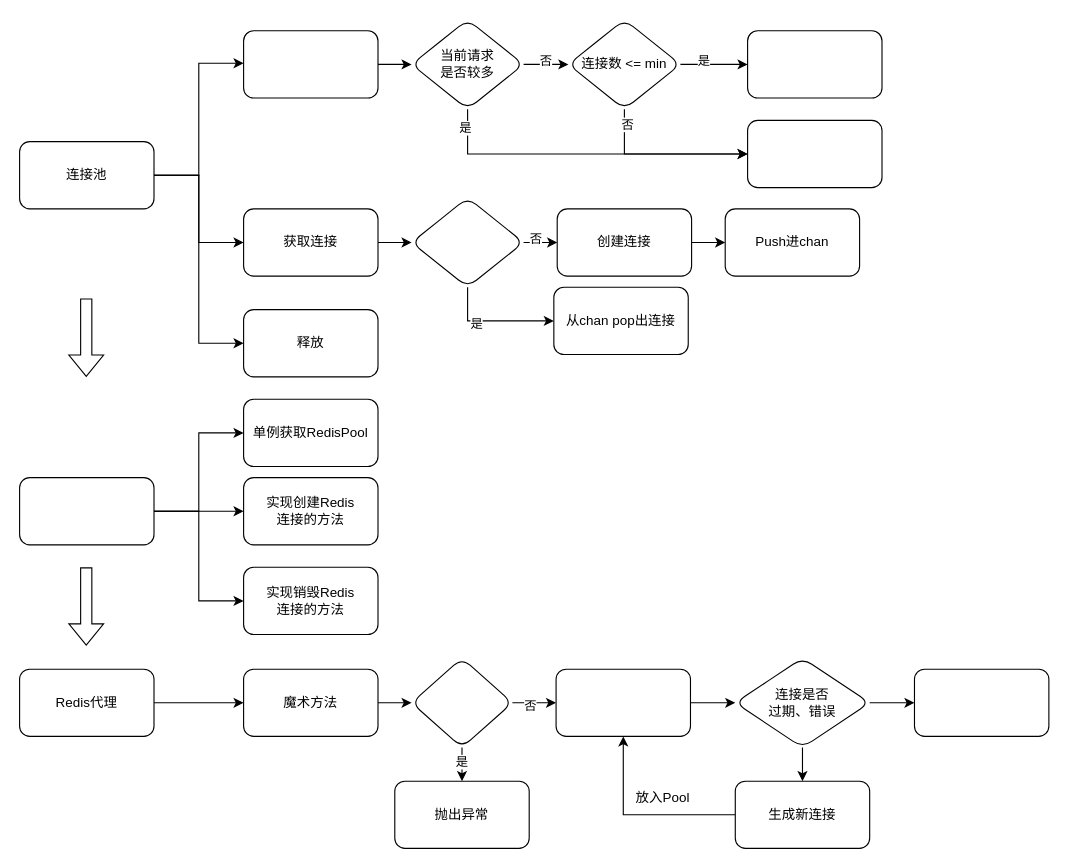
Image size: 1068x868. Some labels were removed from this diagram. Each missing label, with the centre of its shape:
Redis连接池: (x=86, y=511)
从Pool获取连接: (x=622, y=702)
使用连接执行方法: (x=981, y=702)
取消回收: (x=814, y=153)
回收空闲连接: (x=814, y=64)
定时回收连接脚本: (x=310, y=64)
是否 非兼容命令: (x=461, y=702)
连接数 < max: (x=467, y=242)
